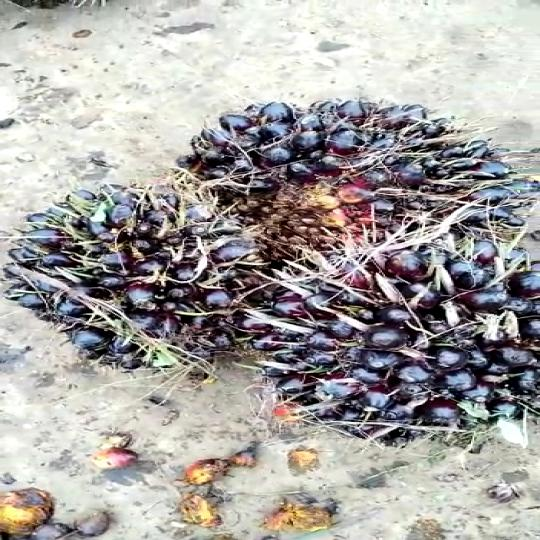mentah: (238, 241, 540, 446), (191, 90, 540, 261), (0, 173, 282, 374)
